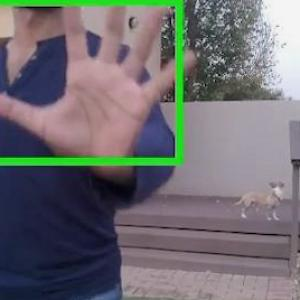follow_hand: (1, 0, 208, 165)
